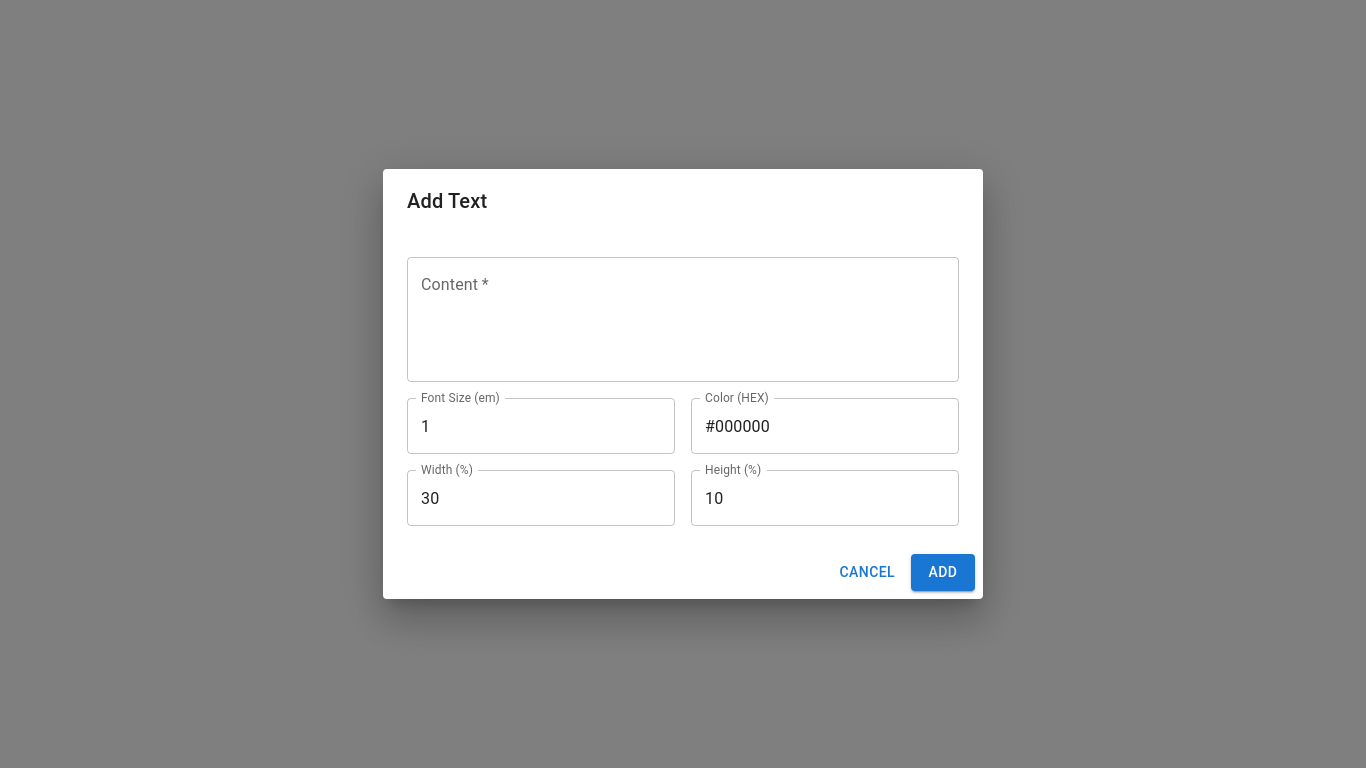
AddTextModal Component › resets form fields after successful submission
This screenshot has width=1366, height=768.
Note: Fill in the form
Step 1. Type "Sample Text" into the text box with test id "content-input" → (683, 320), box [421, 274, 945, 366]
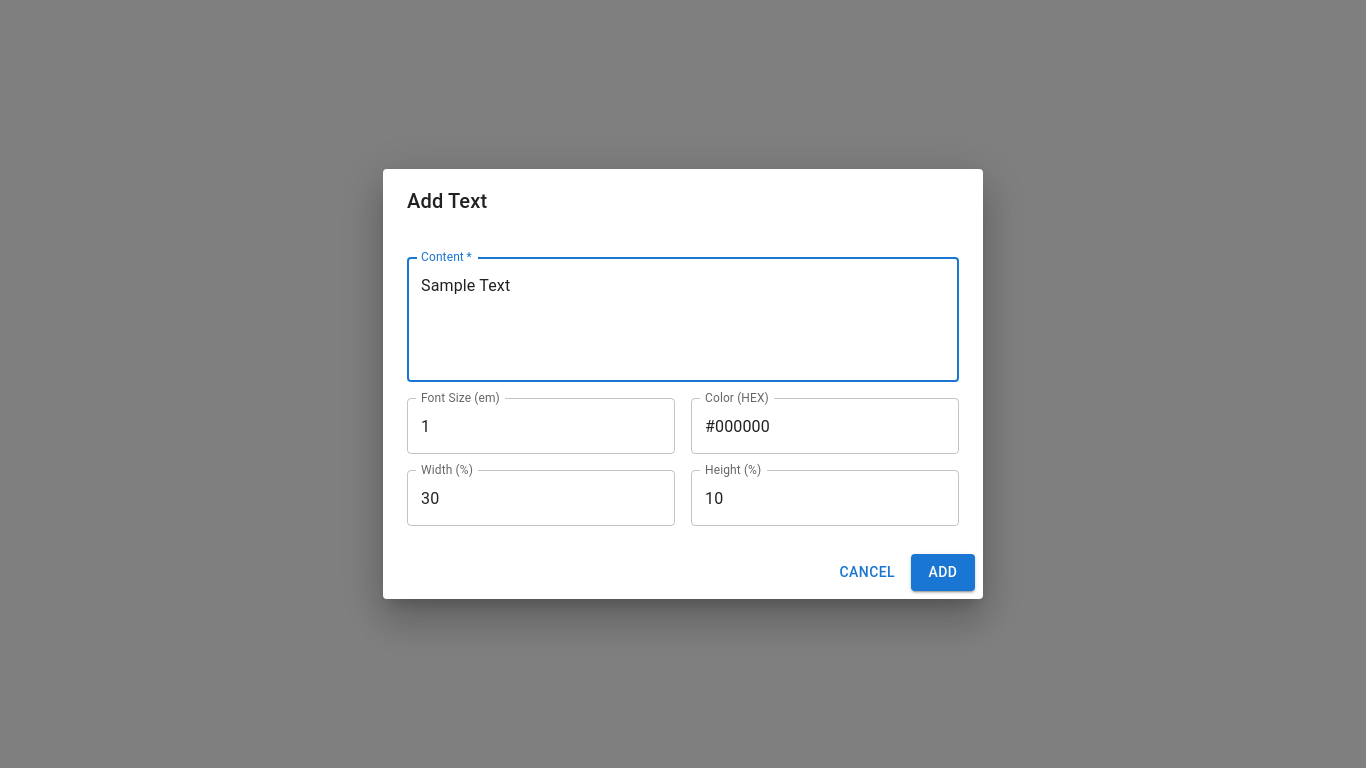
Step 2. Replace the text in the number field with test id "font-size-input" with "2" → (541, 426), box [407, 398, 675, 454]
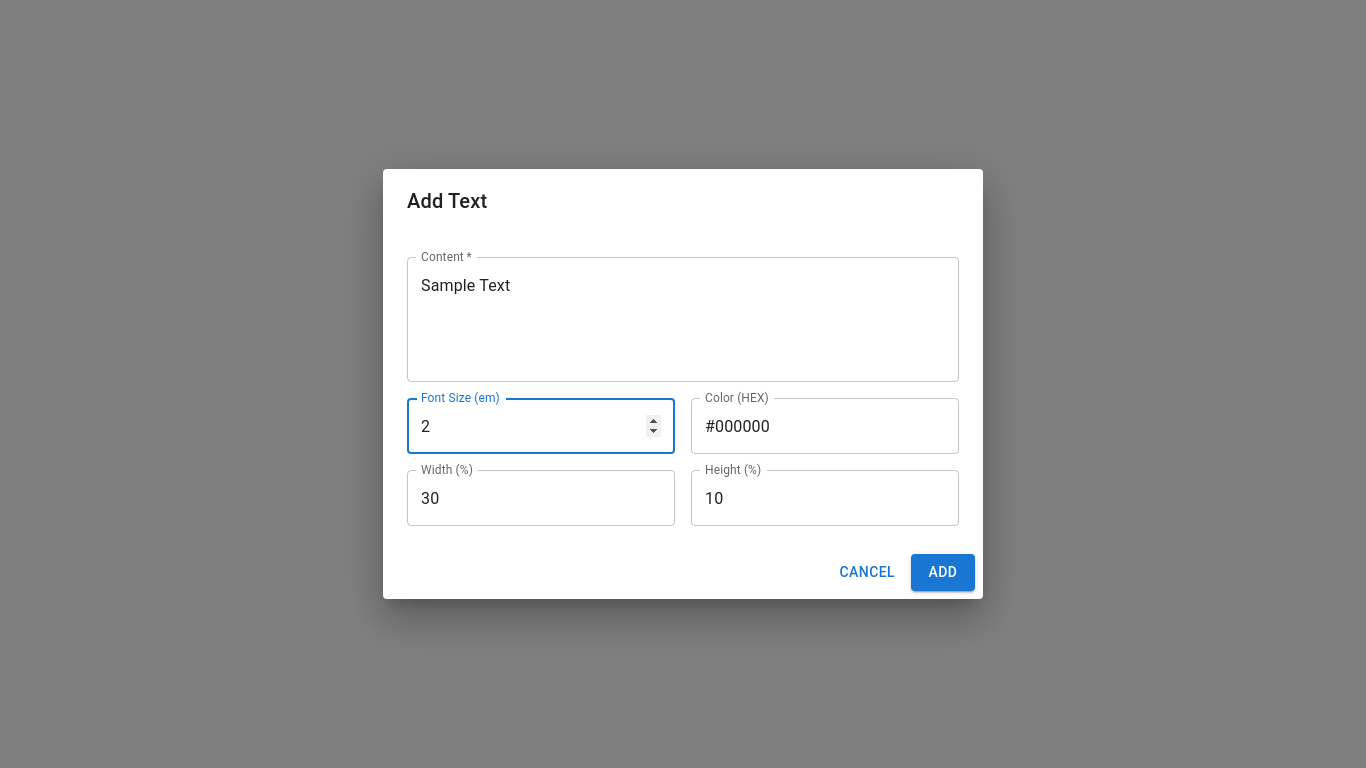
Step 3. Type "#FF5733" into the field with test id "color-input" → (825, 426), box [691, 398, 959, 454]
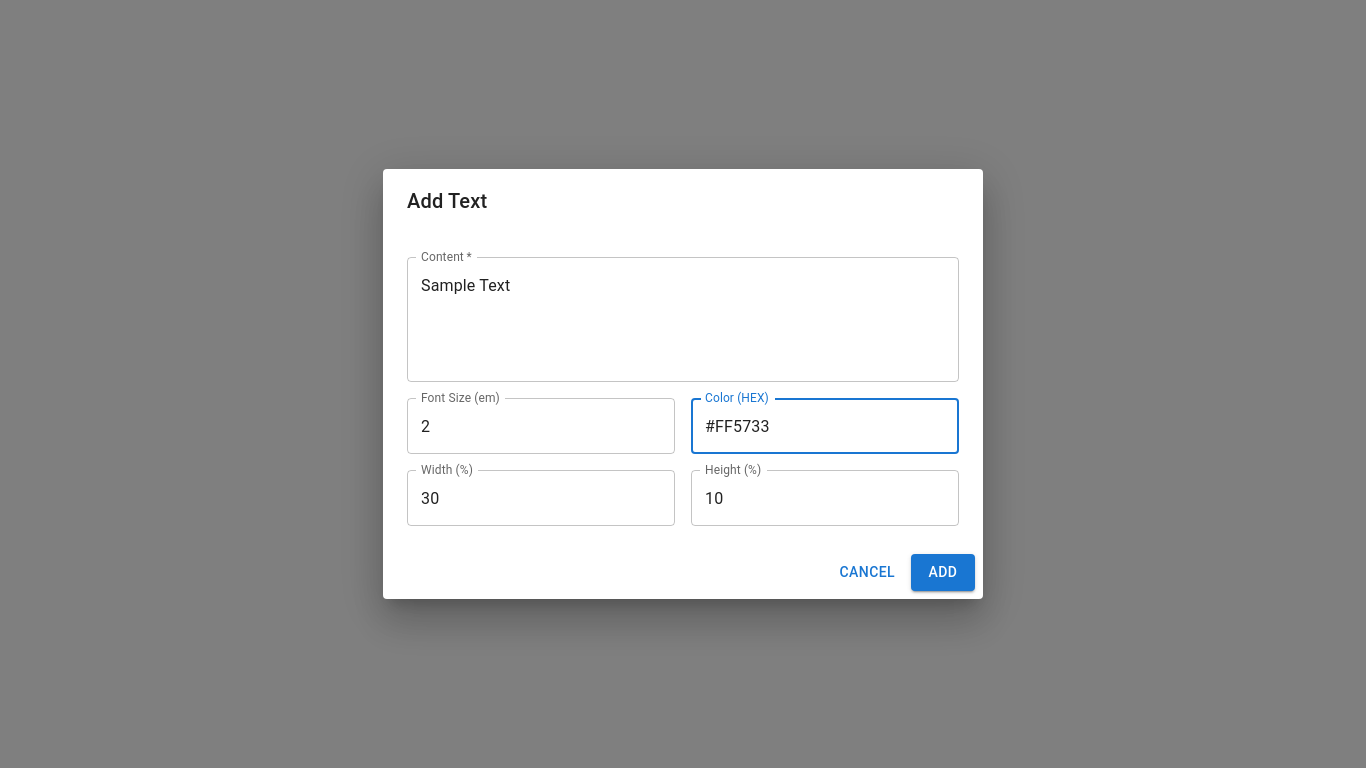
Step 4. Replace the text in the number field with test id "width-percentage-input" with "50" → (541, 498), box [407, 470, 675, 526]
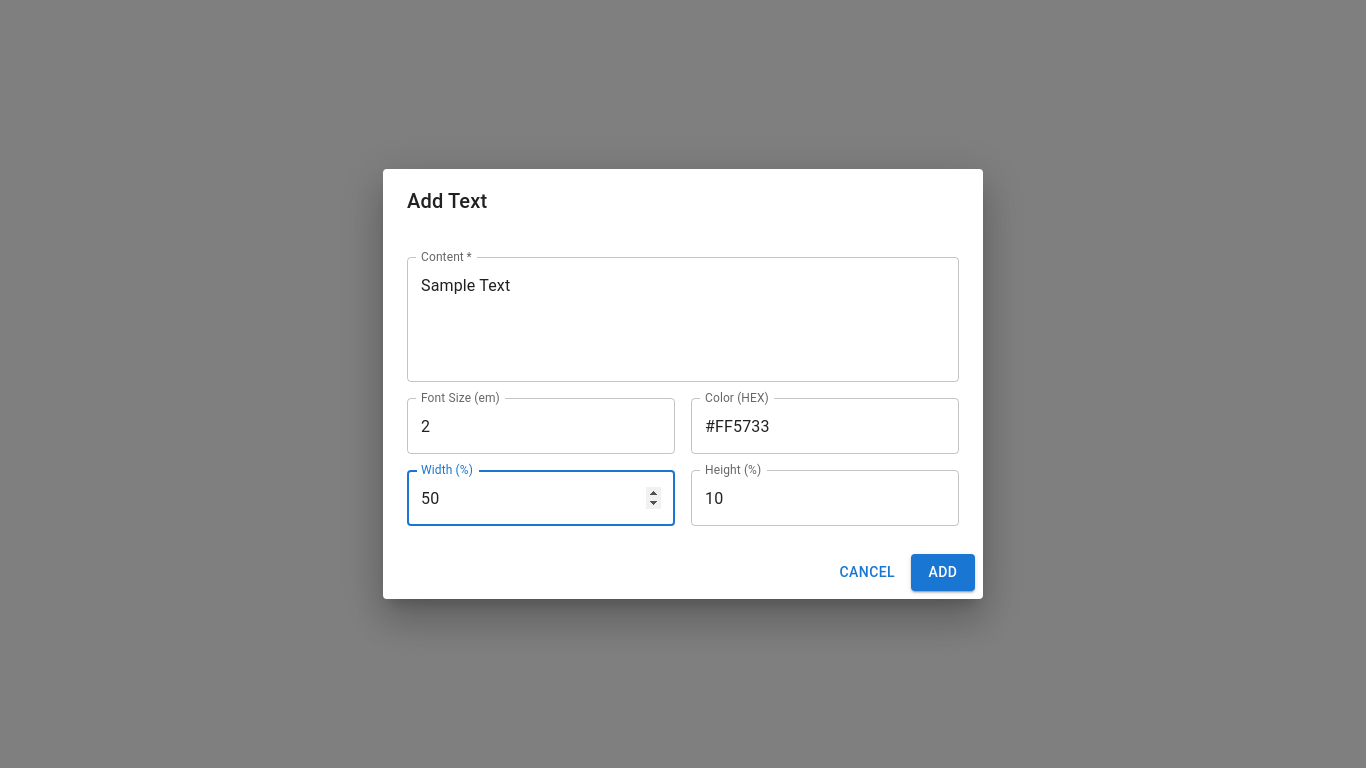
Step 5. Replace the text in the number field with test id "height-percentage-input" with "20" → (825, 498), box [691, 470, 959, 526]
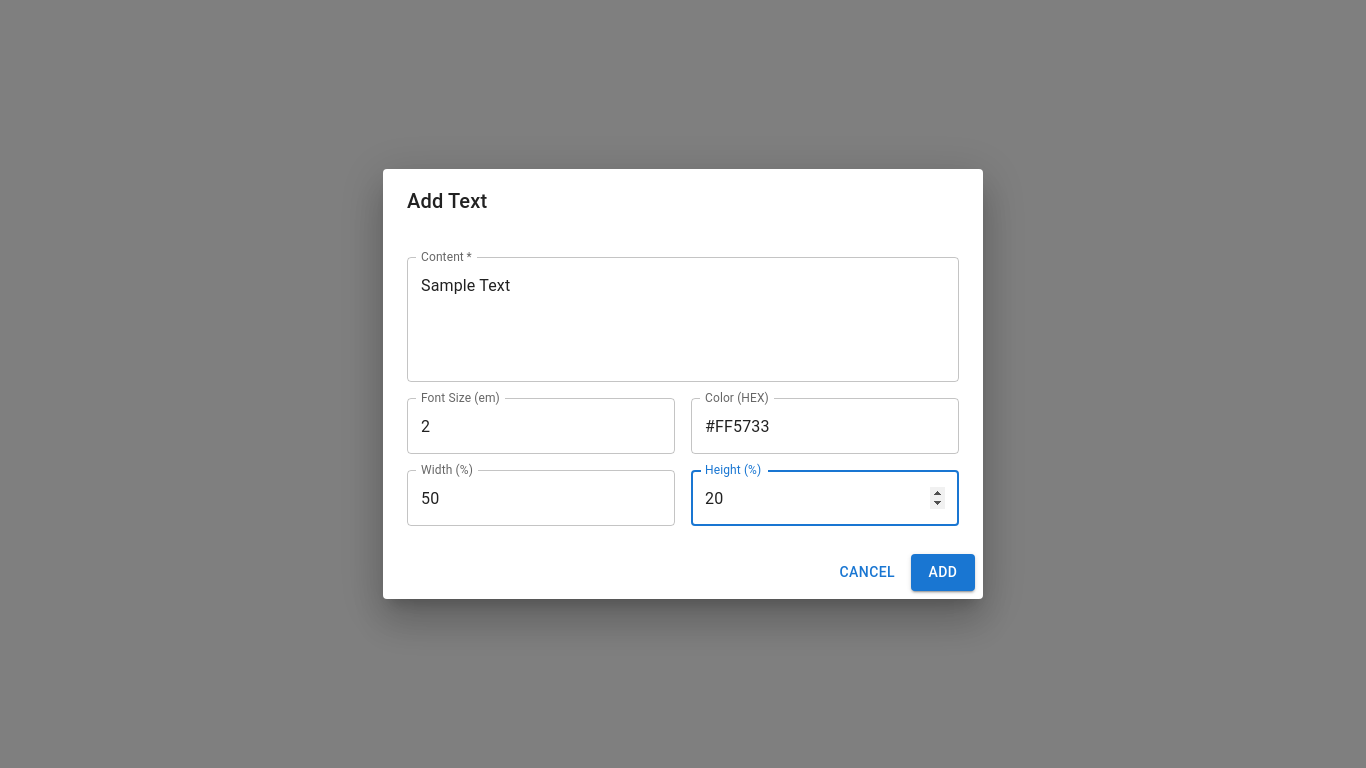
Step 6. Click the button "Add" → (943, 573), box [911, 554, 975, 591]
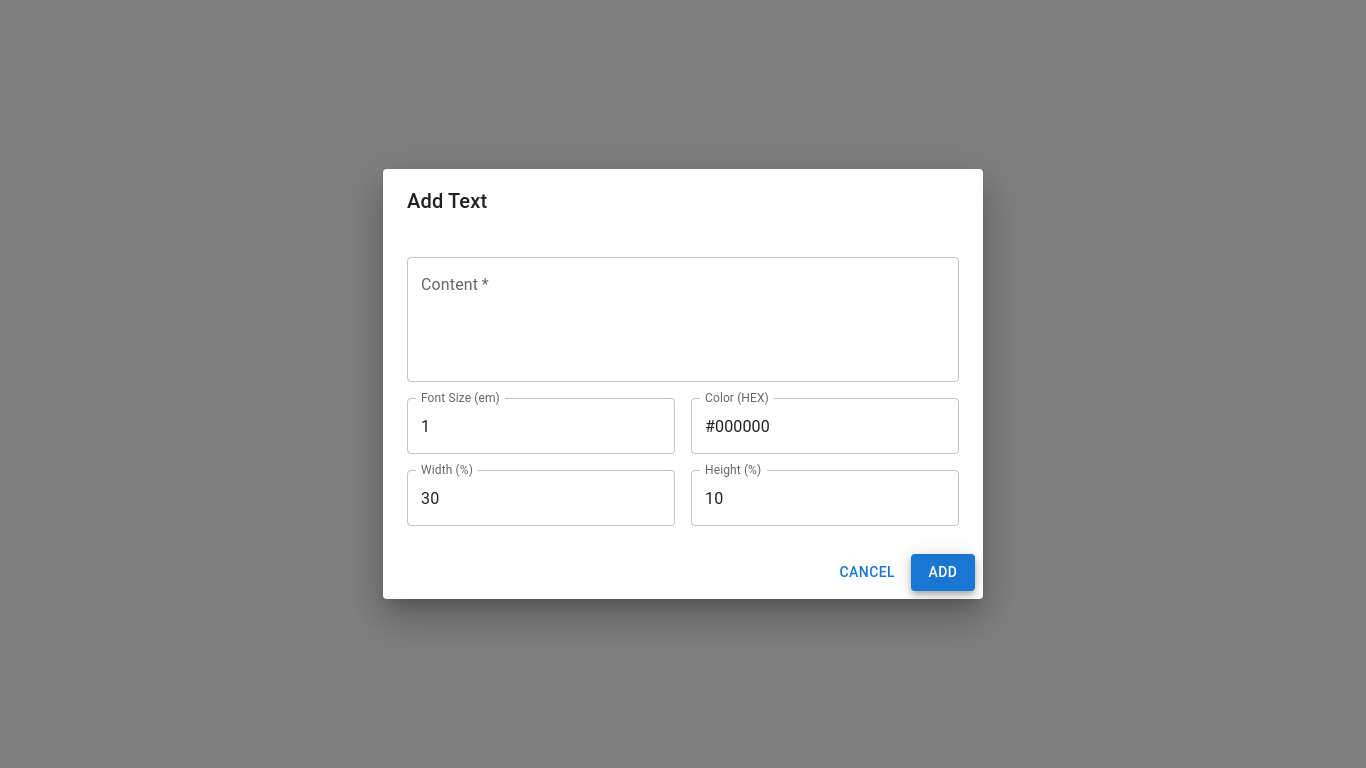
Check: the text box with test id "content-input" is empty, box [421, 274, 945, 366]
Check: the number field with test id "font-size-input" holds "1", box [407, 398, 675, 454]
Check: the field with test id "color-input" holds "#000000", box [691, 398, 959, 454]
